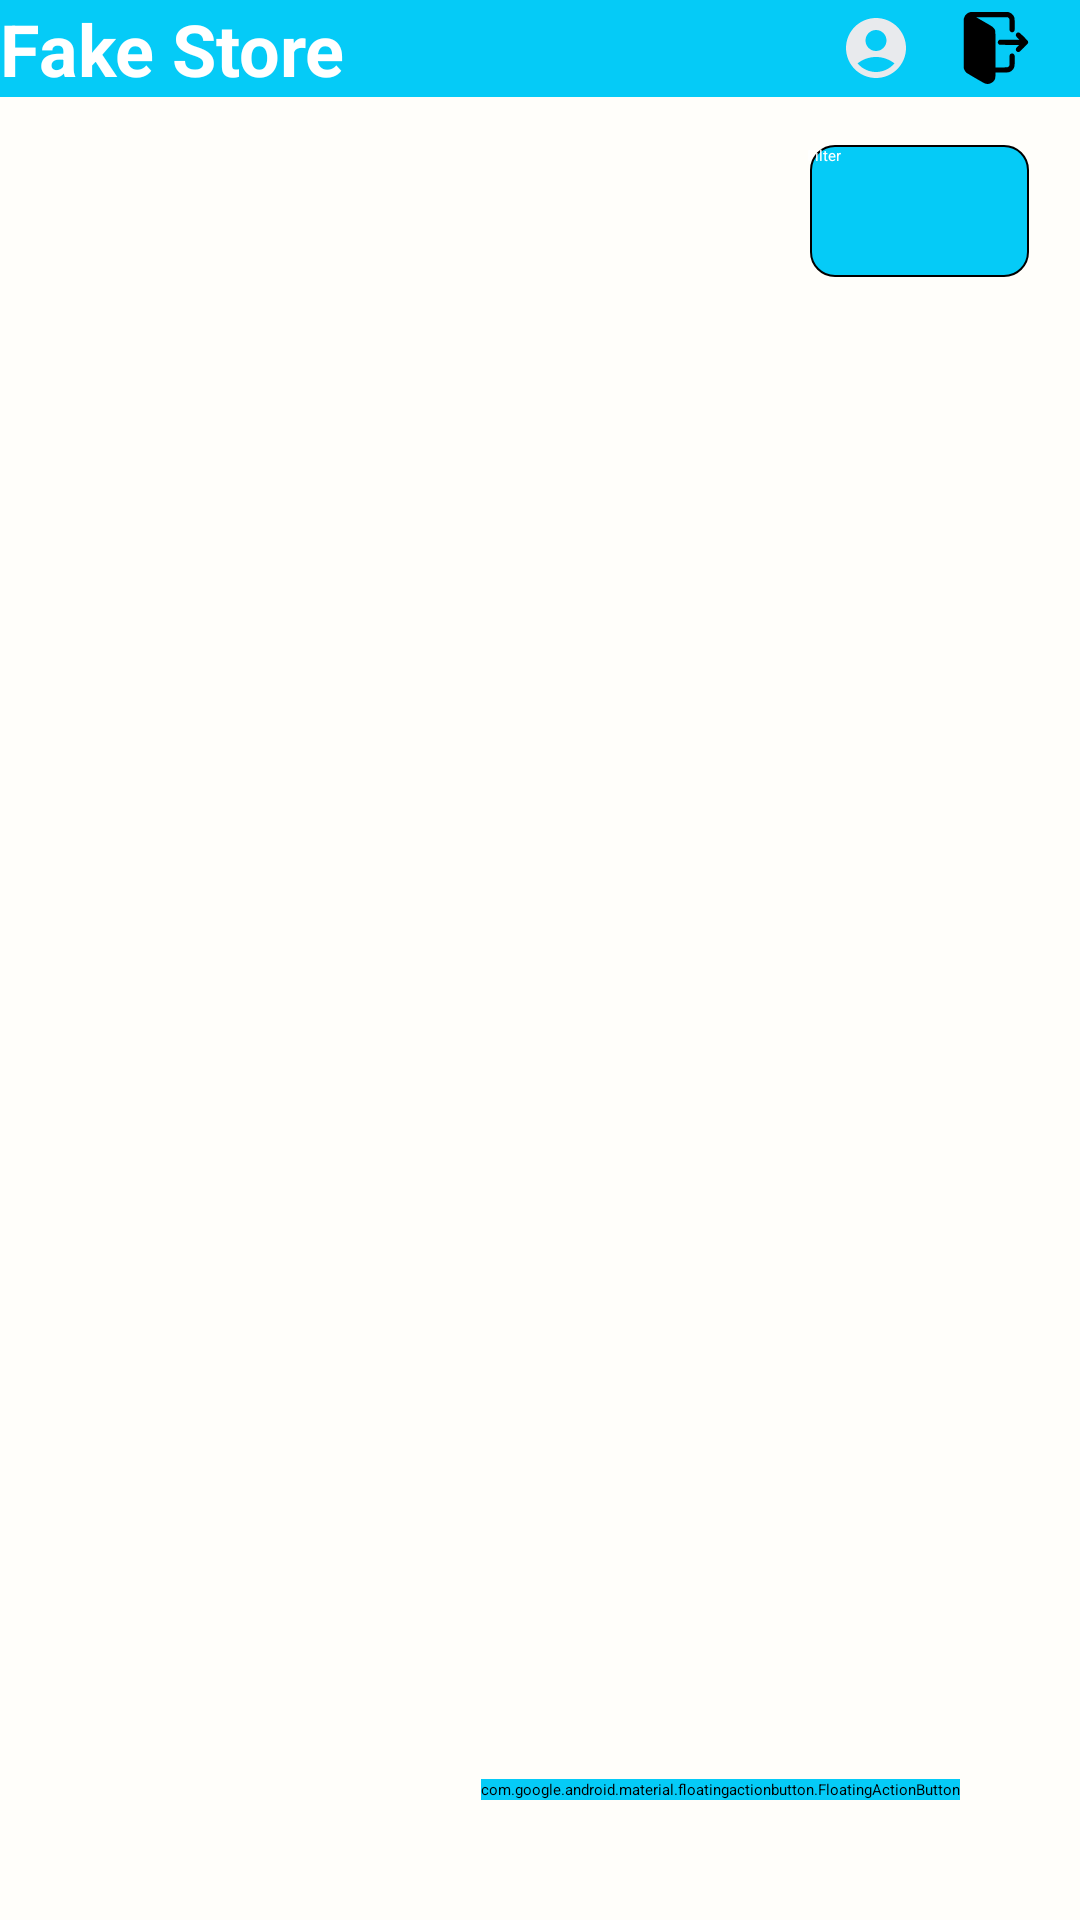

Screen size 1080*1920. Icon name, then its center in pixels as (x,y):
account: (876,48)
